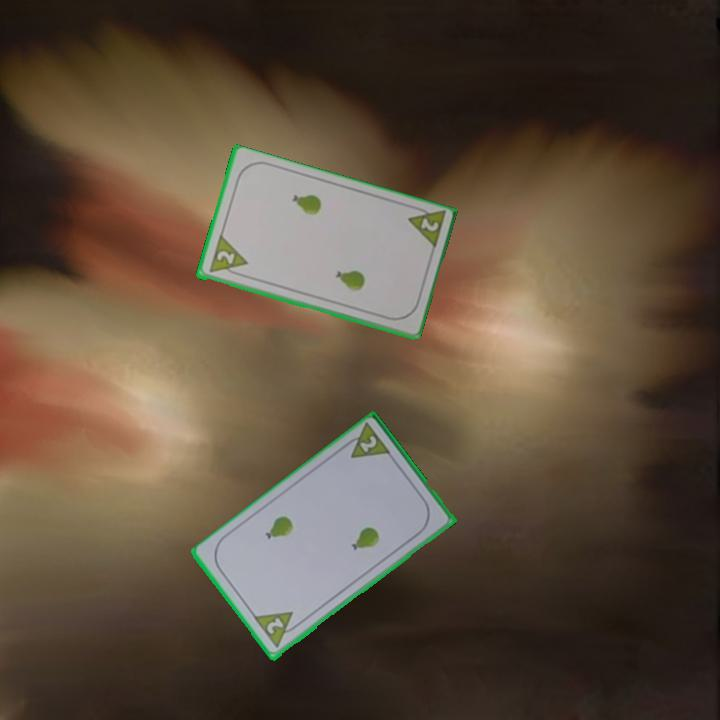2p: (250, 608, 304, 652), (403, 202, 448, 253), (339, 421, 394, 462), (205, 233, 250, 280)
